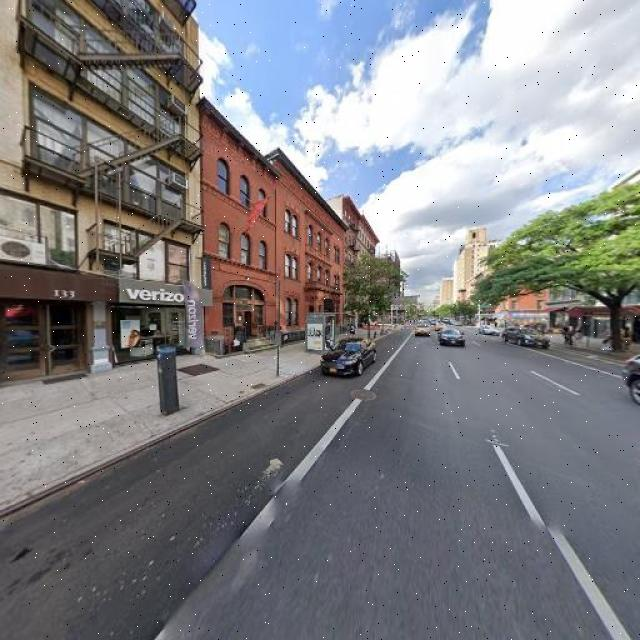Building: (1, 1, 197, 390), (200, 94, 278, 357), (280, 148, 344, 343)
